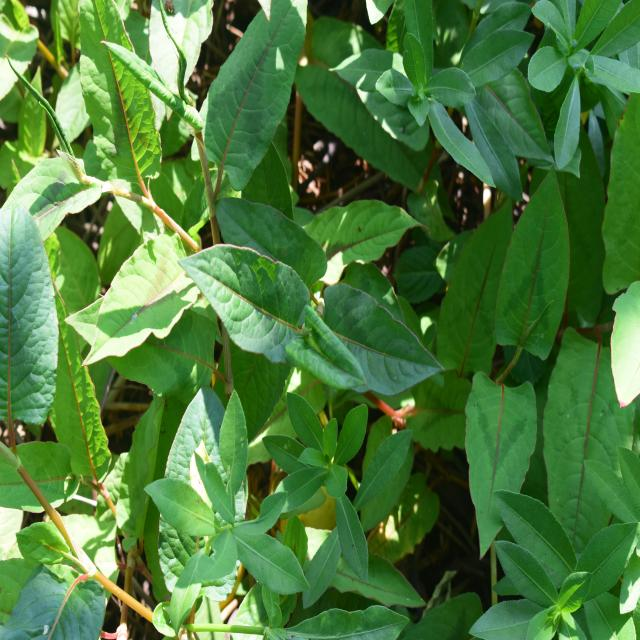Chinese_knotweed: (41, 23, 267, 404), (210, 198, 414, 396)
